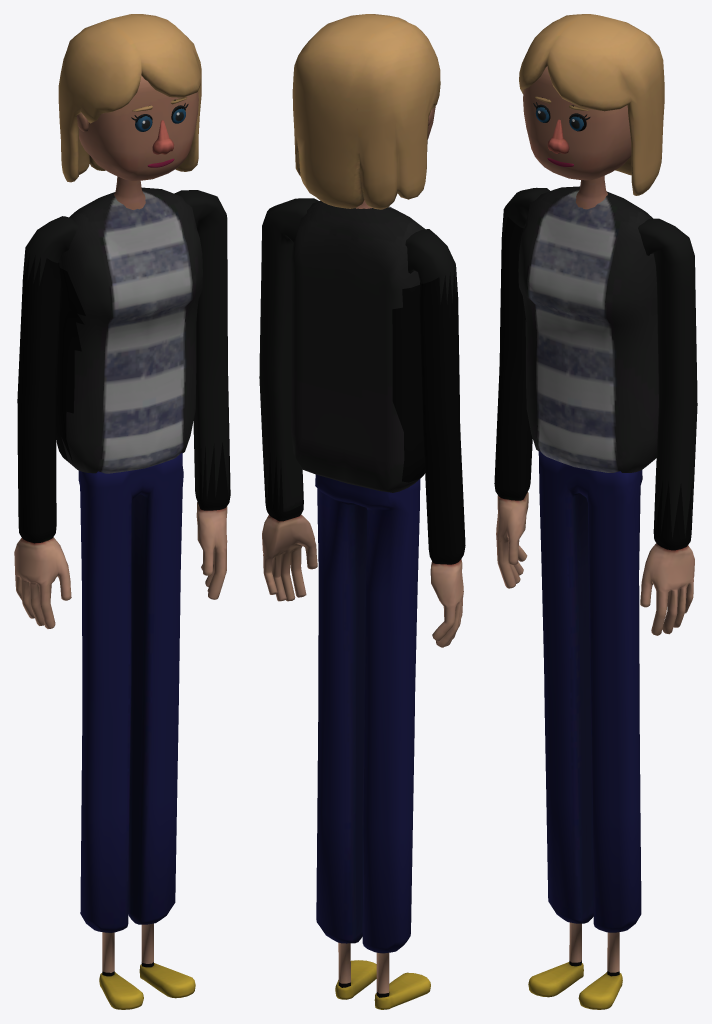
File: shareesh.gltf
3 views of the same model, side by side, from view 1: azimuth 30°, elevation 25°; view 2: azimuth 150°, elevation 25°; view 3: azimuth 330°, elevation 25° (orthographic).
Parts seen in each view (by area): view 1: WholeBody, Hair, DetachedHead; view 2: WholeBody, Hair; view 3: WholeBody, Hair, DetachedHead.
Boxes of the visible parts, x1=… form: WholeBody: x1=14, y1=187, x2=230, y2=1009; Hair: x1=58, y1=14, x2=201, y2=182; DetachedHead: x1=77, y1=75, x2=198, y2=209; WholeBody: x1=259, y1=198, x2=465, y2=1009; Hair: x1=292, y1=14, x2=440, y2=209; WholeBody: x1=494, y1=186, x2=697, y2=1009; Hair: x1=519, y1=14, x2=664, y2=195; DetachedHead: x1=523, y1=66, x2=631, y2=209.
Bounding box in the file's own units: 1 × 4.58 × 0.5927.
Materials: 4 (4 with a texture image).
